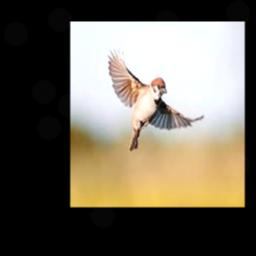Sparrow: (106, 46, 203, 150)
